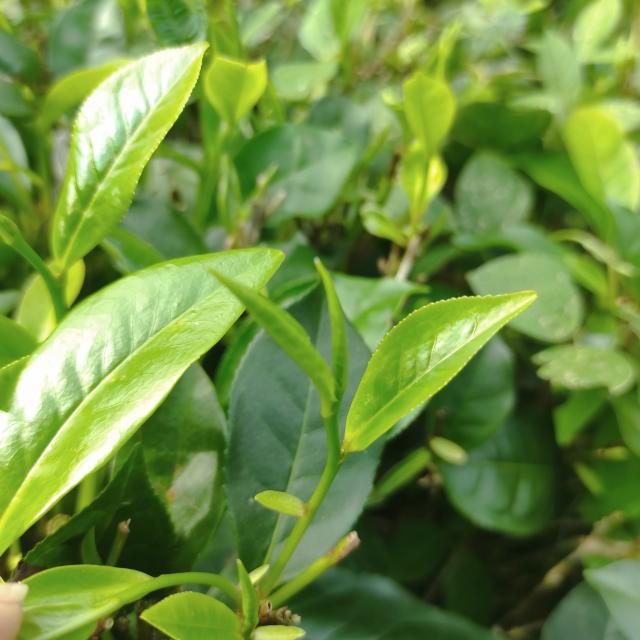unopened_leaf: (301, 250, 350, 411), (224, 557, 267, 640)
